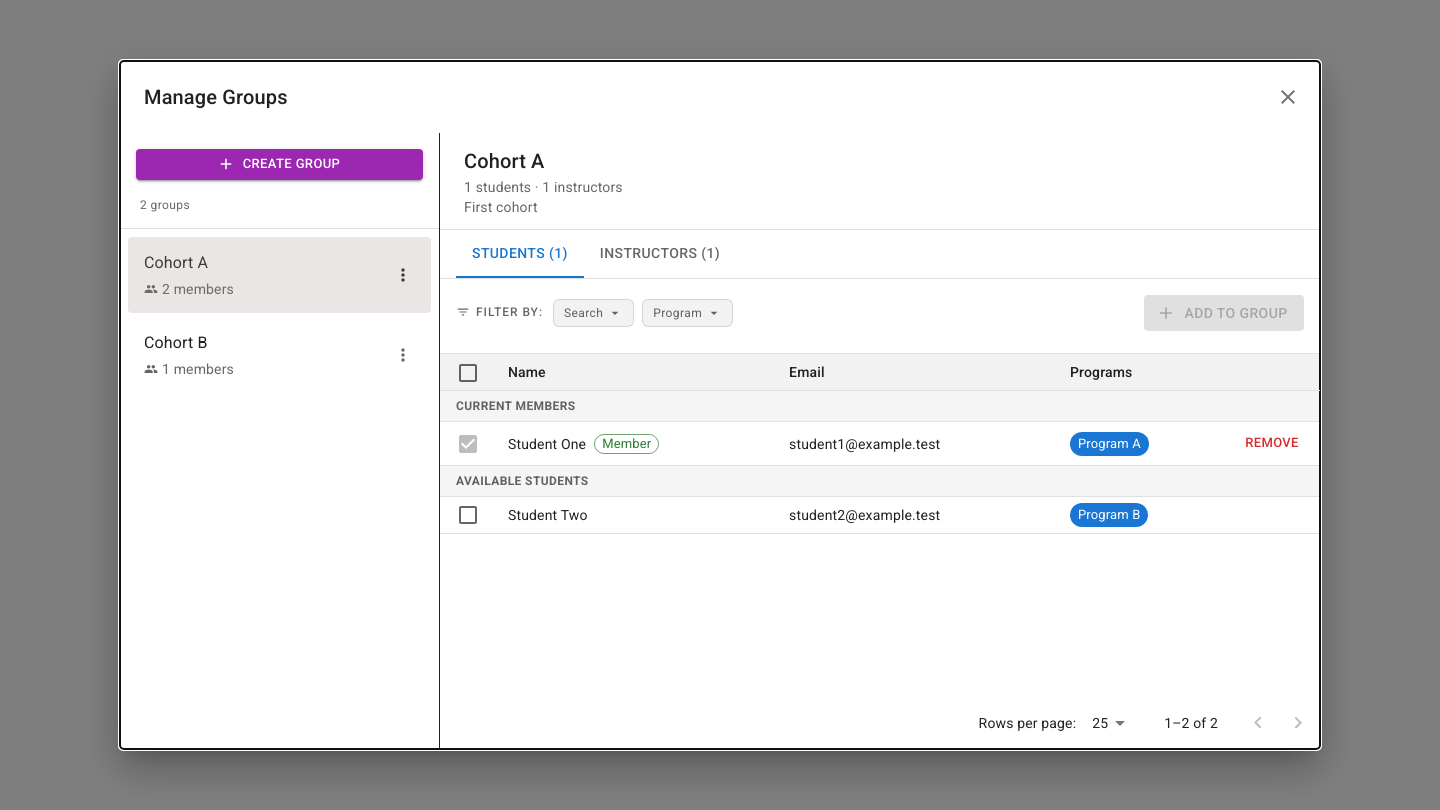
Scenario: GroupManagementModal › hides student-only program filter summary chips on the instructors tab
The image size is (1440, 810).
Expected: the text "CURRENT MEMBERS" is shown, [456,399,576,413]
Click the button "Program".
click(688, 313)  # box [642,299,733,327]
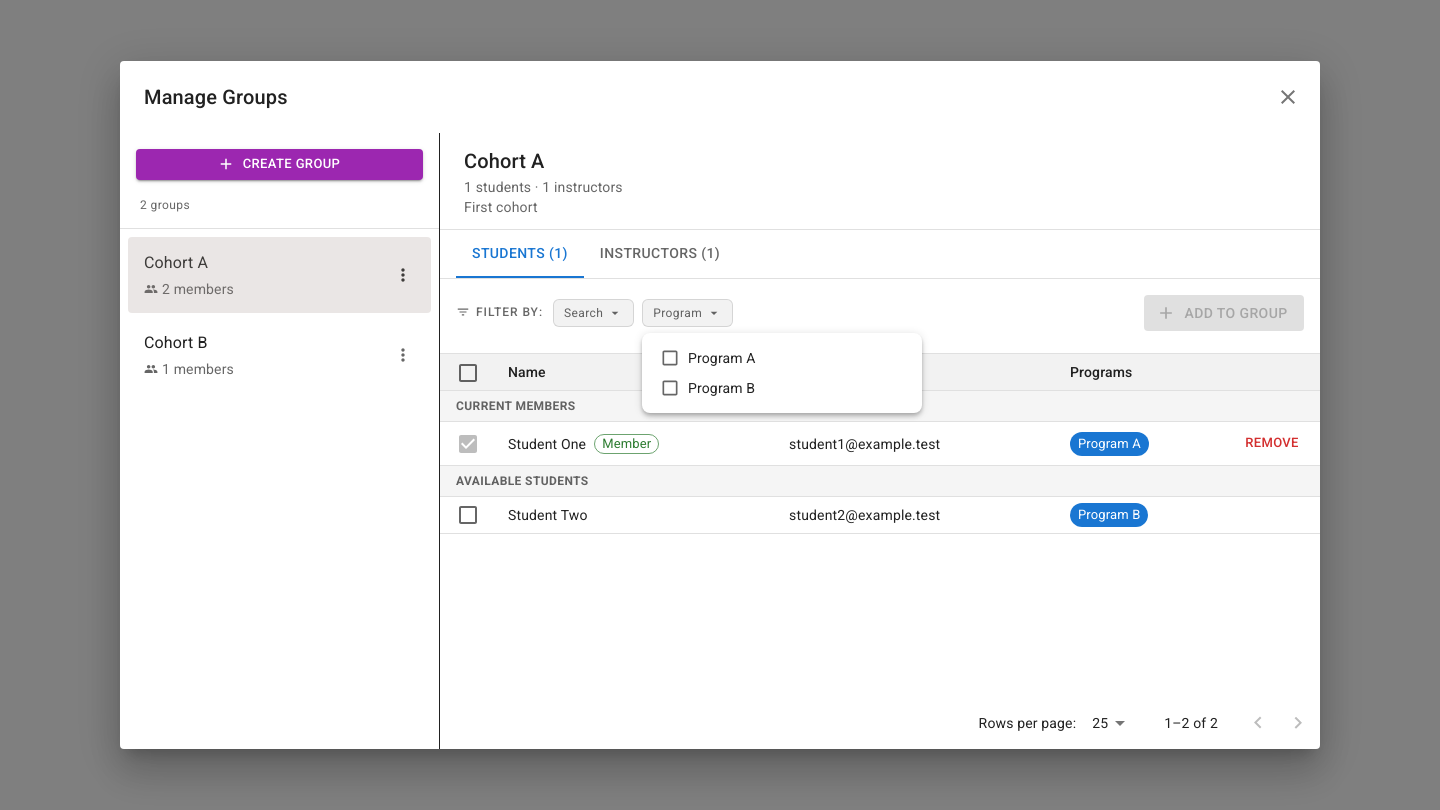
Click the menu item "Program A".
click(708, 358)  # box [660,348,756,368]
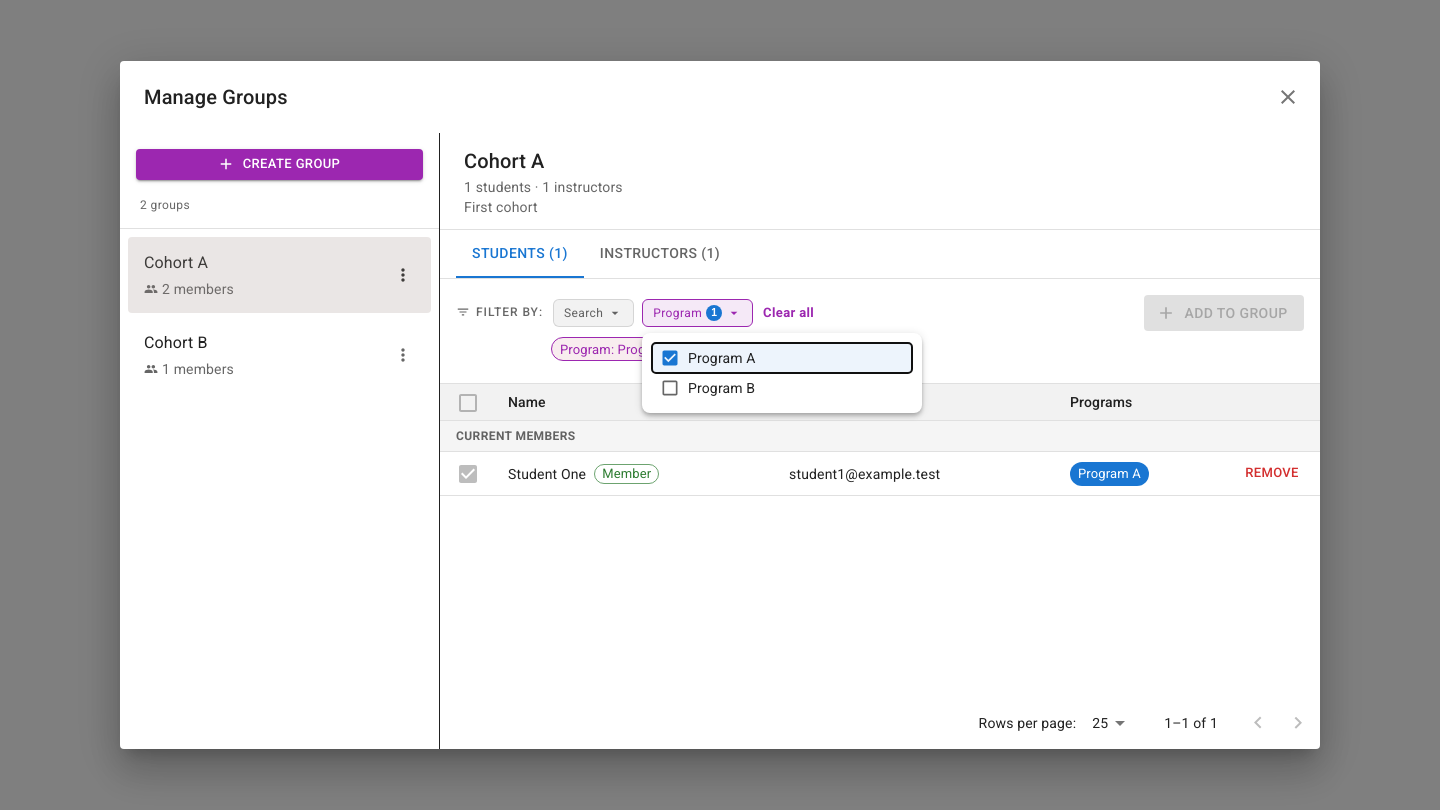
Expected: the text "Program: Program A" is shown, [552,340,688,359]
Expected: the button "Clear all" is shown, [763,298,814,328]
Click the tab "Instructors (1)".
click(660, 254)  # box [584,230,736,278]
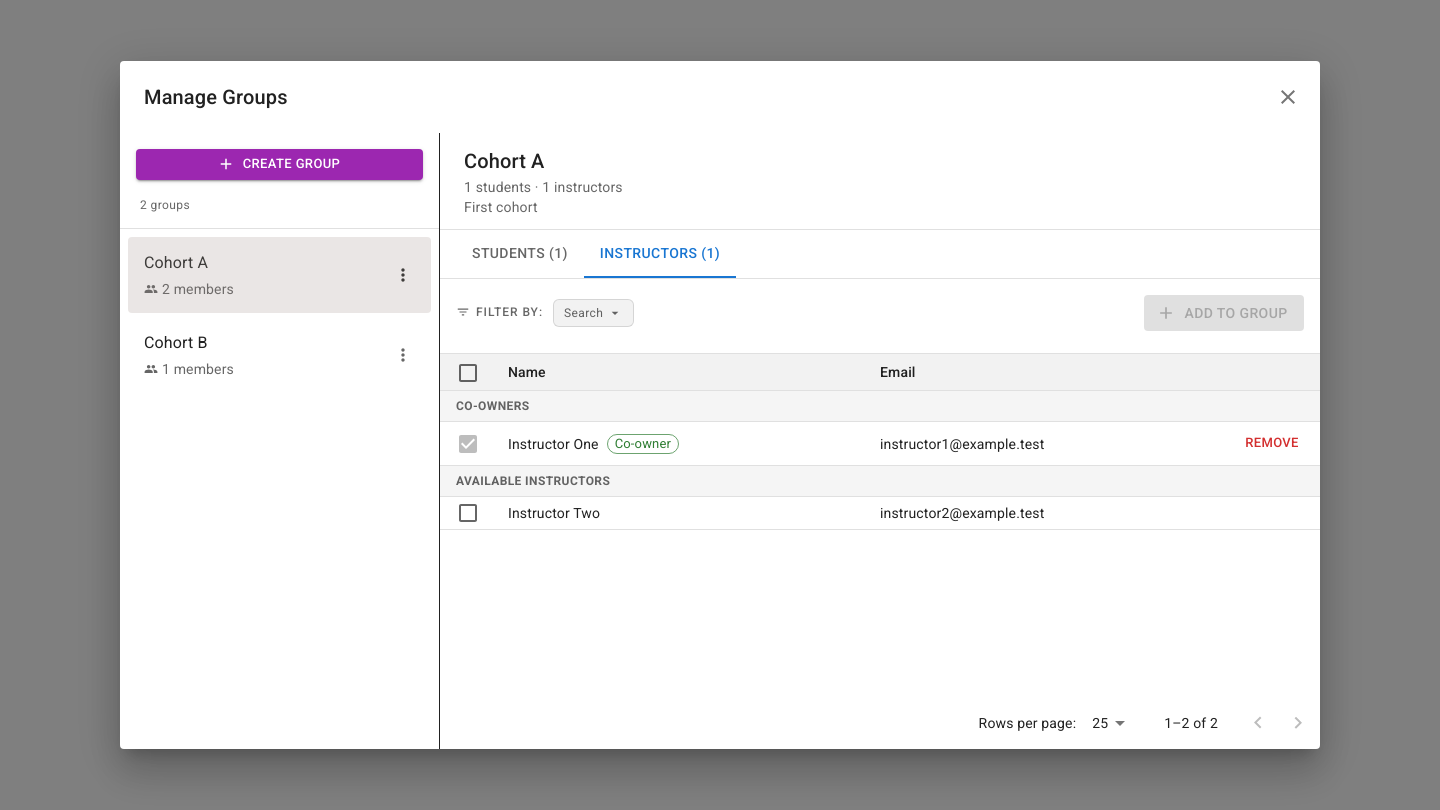
Expected: the button "Program: Program A" is gone
Expected: the button "Clear all" is gone
Expected: the button "Program" is gone
